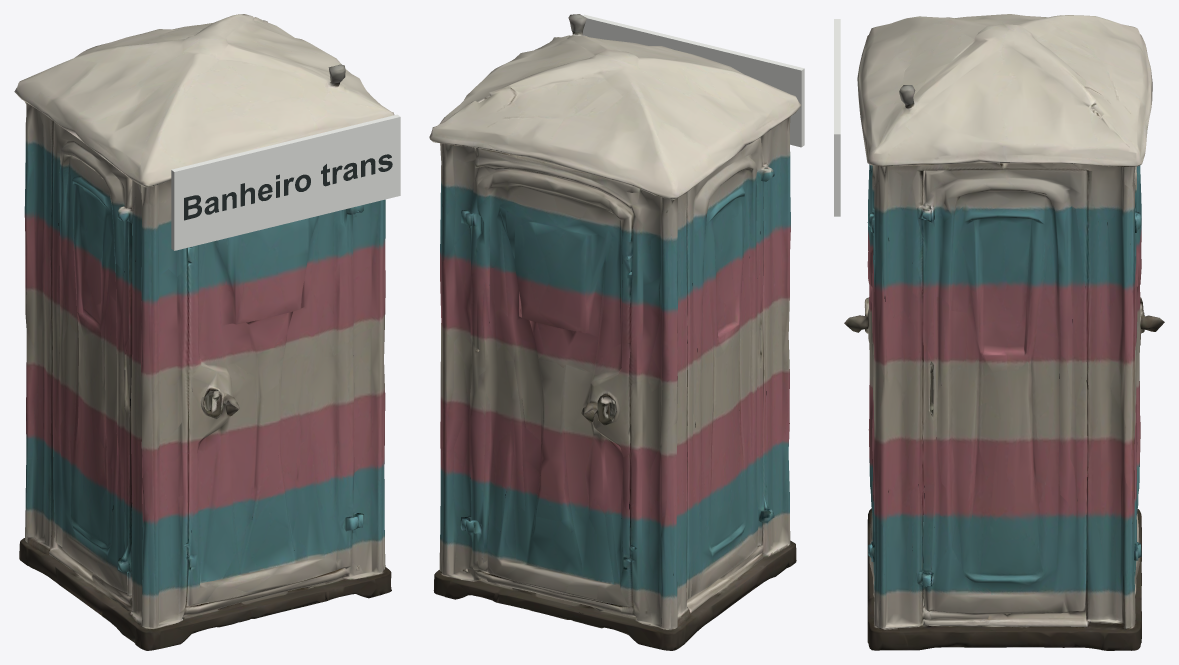
Rendered from toilet-trans.glb.
3 renders of one model, left to right at view 1: azimuth 30°, elevation 25°; view 2: azimuth 150°, elevation 25°; view 3: azimuth 270°, elevation 25°, orthographic. The views are drawn at different scales.
Parts seen in each view (by area): view 1: tripo_node_60a4deb6-5a27-47ab-872c-550047519718, Readable_Gender_Plate, Gender_Label; view 2: tripo_node_60a4deb6-5a27-47ab-872c-550047519718, Readable_Gender_Plate; view 3: tripo_node_60a4deb6-5a27-47ab-872c-550047519718, Readable_Gender_Plate.
Boxes of the visible parts, x1,y1,x2,y2 form: tripo_node_60a4deb6-5a27-47ab-872c-550047519718: (14,14,394,650); Readable_Gender_Plate: (171,114,400,250); Gender_Label: (184,154,392,220); tripo_node_60a4deb6-5a27-47ab-872c-550047519718: (429,14,801,650); Readable_Gender_Plate: (583,14,804,147); tripo_node_60a4deb6-5a27-47ab-872c-550047519718: (844,14,1164,650); Readable_Gender_Plate: (834,19,840,216).
Bounding box in the file's own units: 1.2 × 2.3 × 1.24.
Materials: 3 (1 with a texture image).
